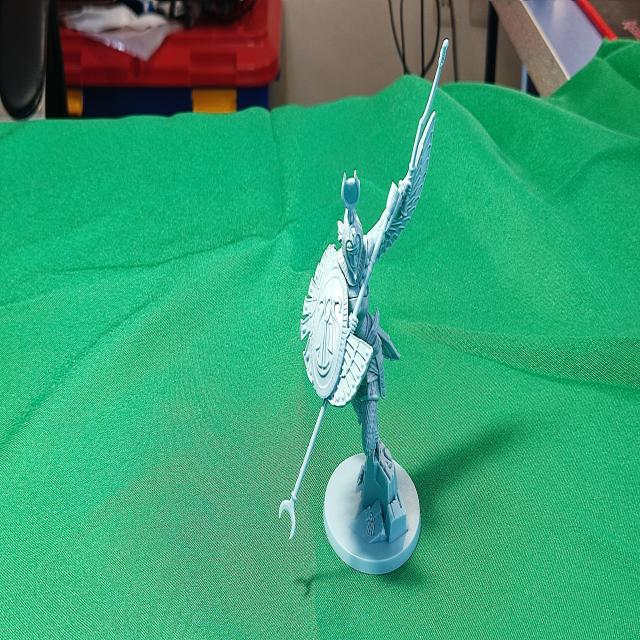isis: (272, 0, 460, 640)
